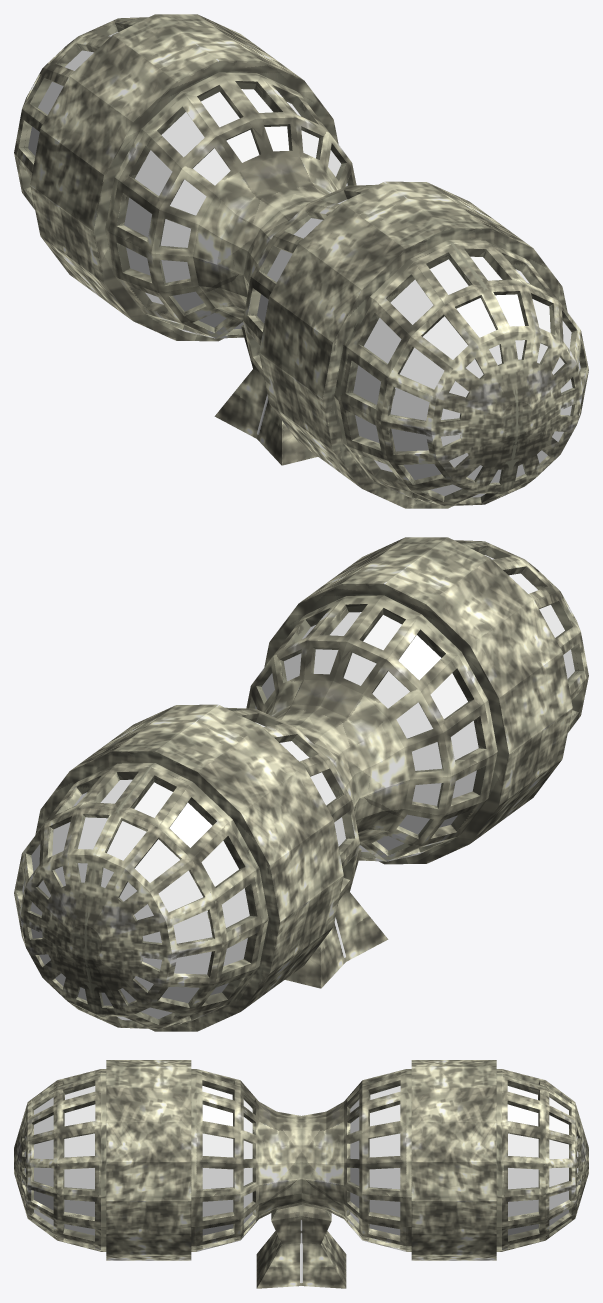
The model's file is sa_generator.obj.
The picture shows the model from 3 angles, top to bottom: view 1: azimuth 30°, elevation 25°; view 2: azimuth 150°, elevation 25°; view 3: azimuth 270°, elevation 25°; orthographic projection. The views are drawn at different scales.
Parts seen in each view (by area): view 1: Cylinder; view 2: Cylinder; view 3: Cylinder.
Part boxes in pixels (<box>): Cylinder: <box>14,14,588,508</box>; Cylinder: <box>14,537,588,1031</box>; Cylinder: <box>14,1060,588,1288</box>.
Bounding box in the file's own units: 2.4 × 2.81 × 7.16.
1 material, 1 textured.
